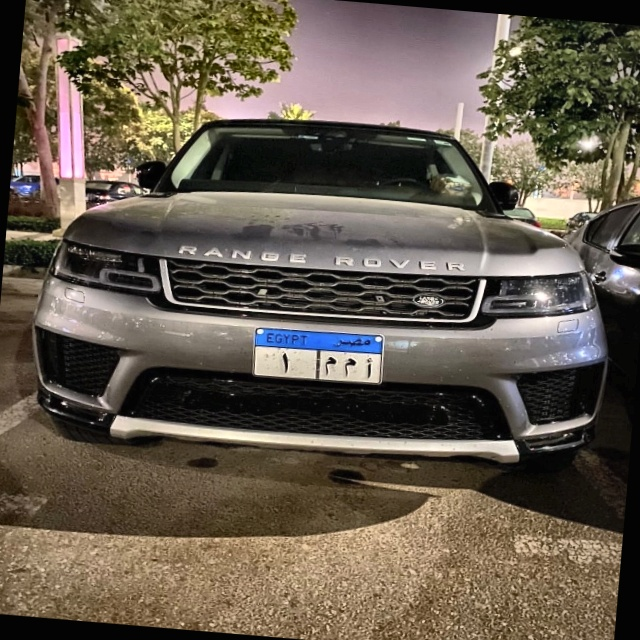License Plate: (248, 323, 388, 391)
